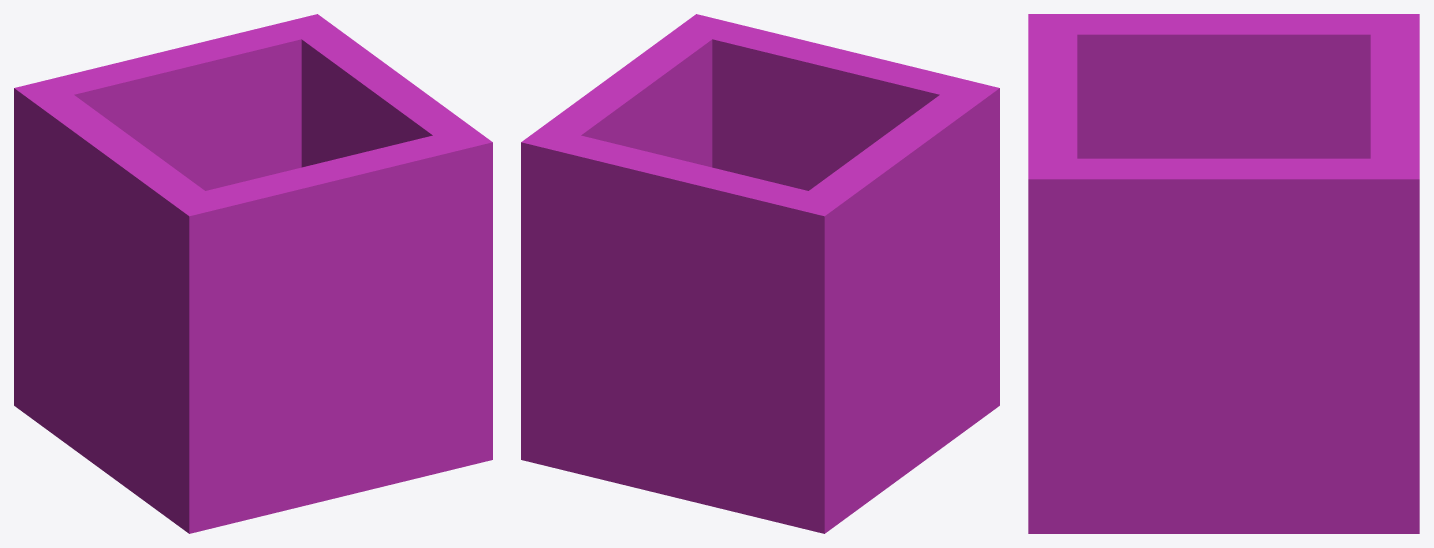
Rendered from basurero.fbx.
The picture shows the model from 3 angles, left to right: view 1: azimuth 30°, elevation 25°; view 2: azimuth 150°, elevation 25°; view 3: azimuth 270°, elevation 25°; orthographic projection. The views are drawn at different scales.
Visible parts, largest first — view 1: Cube; view 2: Cube; view 3: Cube.
Part boxes in pixels (x1,y1,x2,y2): Cube: [14, 14, 492, 533]; Cube: [521, 14, 999, 533]; Cube: [1028, 14, 1419, 533].
Bounding box in the file's own units: 200 × 200 × 200.
